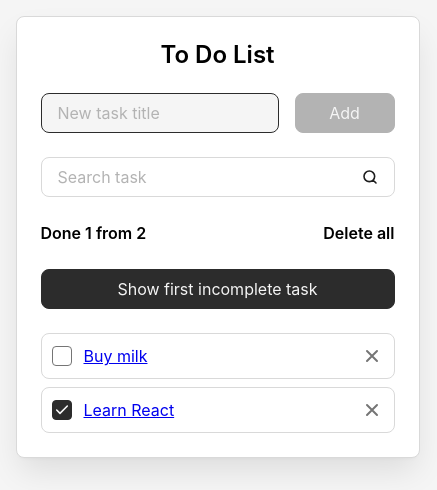
it: Todo › shows "Not found" when no items match the search query
Expected: the checkbox named "Buy milk" next to "Buy milk" is shown, [52,346,72,366]
Type "123" into the search field labelled "Search task". click: (218, 177)
box: [40,157,394,197]
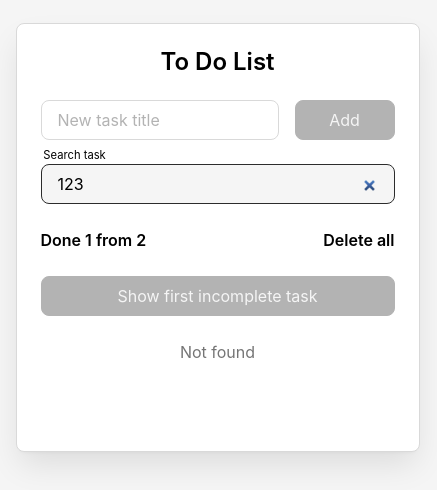
Expected: the text "Not found" is shown, [180,342,255,362]
Expected: the button "Show first incomplete task" is disabled, [40,276,394,316]
